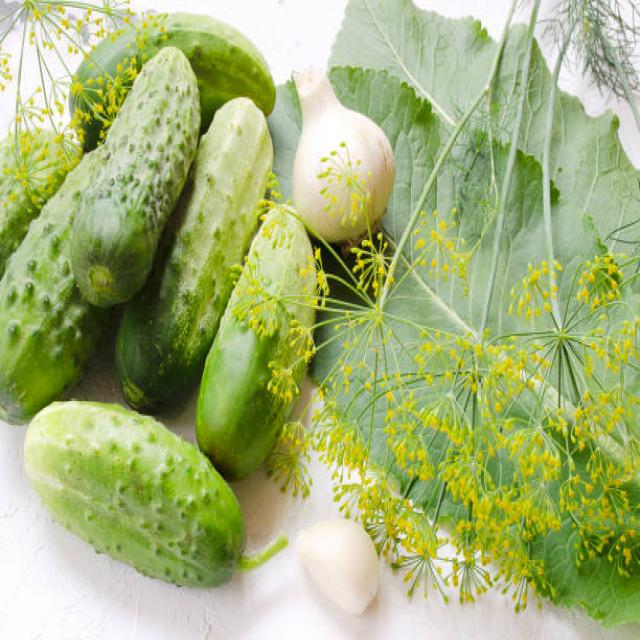cucumber: (115, 95, 273, 412), (25, 399, 246, 591), (72, 44, 201, 308), (195, 203, 317, 473)
